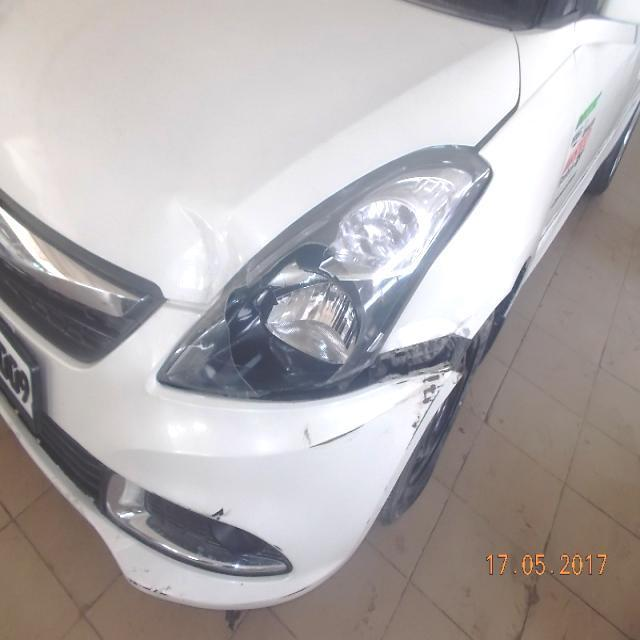minor: (161, 204, 265, 310), (307, 425, 364, 449), (126, 576, 176, 601), (282, 587, 317, 602), (208, 508, 228, 524)
moderate: (158, 151, 491, 402), (367, 317, 493, 476), (410, 371, 456, 450)
